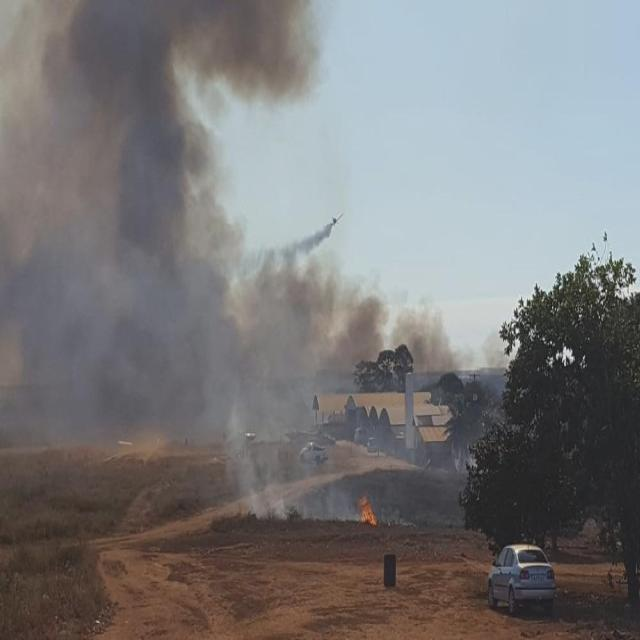Fire: (359, 494, 378, 528)
Smoke: (1, 1, 510, 522)
